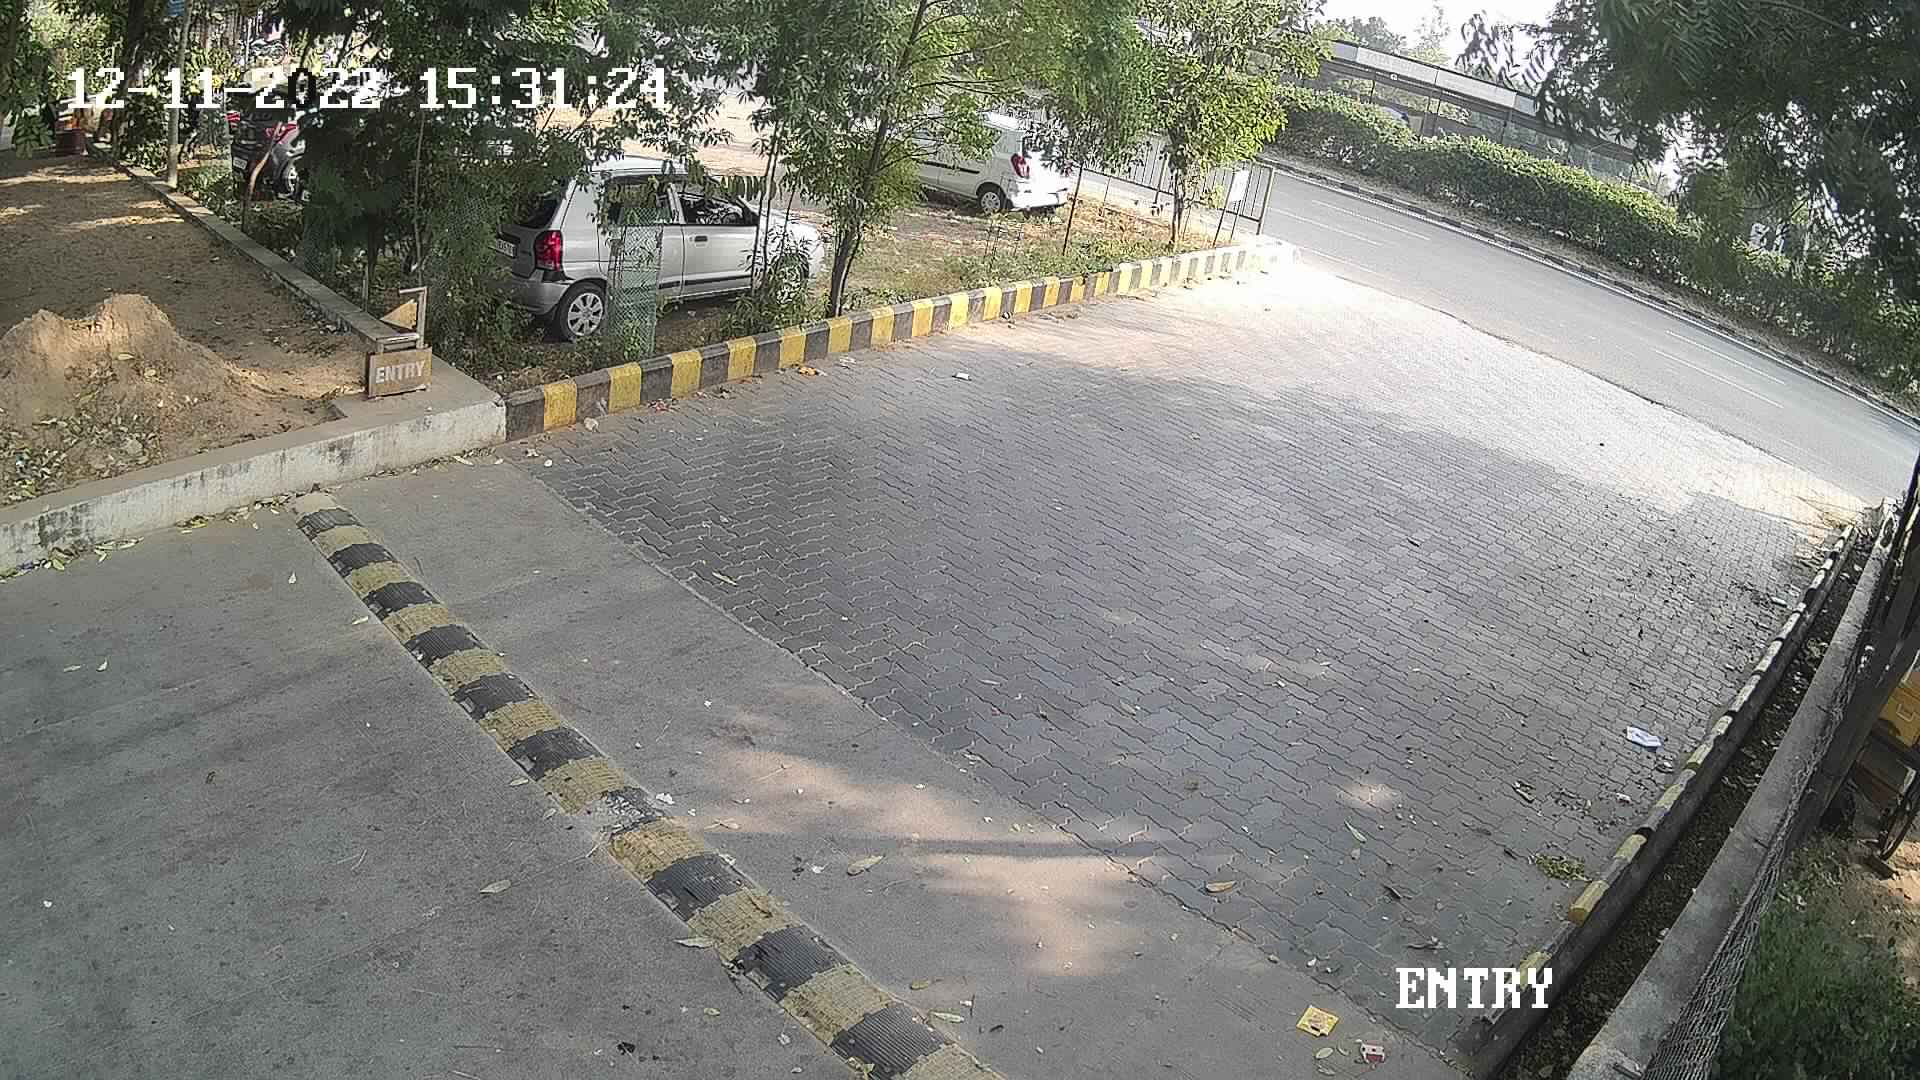Car: (433, 132, 829, 349), (833, 102, 1081, 220)
